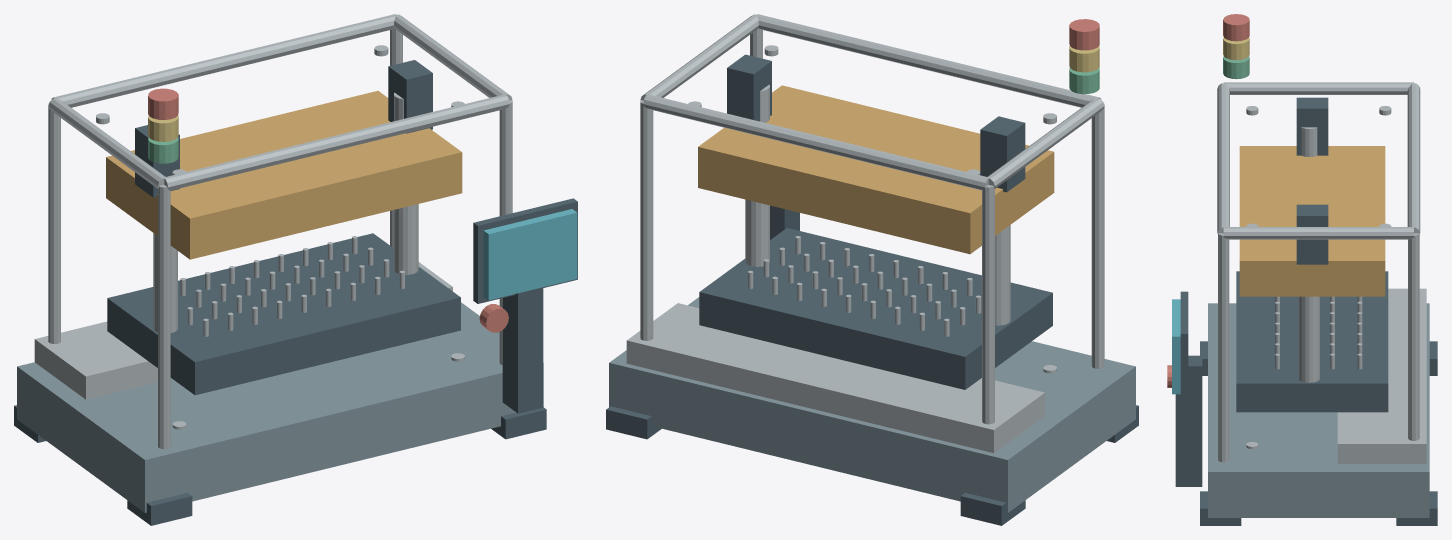
Rendered from backtester.glb.
3 views of the same model, side by side, from view 1: azimuth 30°, elevation 25°; view 2: azimuth 150°, elevation 25°; view 3: azimuth 270°, elevation 25° (orthographic). The views are drawn at different scales.
Visible parts, largest first — view 1: fabricated_base, moving_test_head, test_nest, operator_hmi_screen, control_plinth, toprail_1.5, toprail_-1.5, operator_hmi_pedestal, frame_-2.7_1.5, frame_-2.7_-1.5, linear_actuator_2, operator_hmi_bezel (+12 smaller); view 2: fabricated_base, moving_test_head, test_nest, control_plinth, toprail_-1.5, toprail_1.5, frame_-2.7_1.5, frame_2.7_-1.5, frame_-2.7_-1.5, linear_actuator_2, linear_actuator_-2, crossrail_-2.7 (+9 smaller); view 3: fabricated_base, moving_test_head, test_nest, control_plinth, operator_hmi_pedestal, frame_2.7_1.5, crossrail_2.7, frame_2.7_-1.5, crossrail_-2.7, toprail_-1.5, toprail_1.5, guide_column_1.9 (+10 smaller).
Part boxes in pixels (x1,y1,x2,y2): fabricated_base: [17, 302, 543, 512]; moving_test_head: [106, 91, 462, 259]; test_nest: [107, 233, 460, 395]; operator_hmi_screen: [483, 209, 577, 300]; control_plinth: [34, 262, 452, 399]; toprail_1.5: [163, 94, 509, 190]; toprail_-1.5: [51, 14, 396, 107]; operator_hmi_pedestal: [502, 287, 543, 413]; frame_-2.7_1.5: [158, 185, 170, 449]; frame_-2.7_-1.5: [48, 103, 60, 343]; linear_actuator_2: [388, 60, 432, 133]; operator_hmi_bezel: [473, 198, 577, 303]; fabricated_base: [609, 297, 1135, 512]; moving_test_head: [698, 85, 1054, 254]; test_nest: [699, 228, 1052, 389]; control_plinth: [626, 303, 1044, 452]; toprail_-1.5: [643, 94, 988, 190]; toprail_1.5: [756, 14, 1101, 107]; frame_-2.7_1.5: [1091, 103, 1104, 368]; frame_2.7_-1.5: [640, 100, 653, 340]; frame_-2.7_-1.5: [982, 185, 994, 424]; linear_actuator_2: [727, 54, 771, 121]; linear_actuator_-2: [980, 116, 1025, 192]; crossrail_-2.7: [987, 98, 1104, 188]; fabricated_base: [1208, 303, 1429, 517]; moving_test_head: [1239, 146, 1385, 296]; test_nest: [1236, 271, 1388, 412]; control_plinth: [1337, 288, 1426, 463]; operator_hmi_pedestal: [1175, 355, 1202, 486]; frame_2.7_1.5: [1218, 233, 1229, 462]; crossrail_2.7: [1223, 227, 1413, 239]; frame_2.7_-1.5: [1408, 233, 1419, 440]; crossrail_-2.7: [1223, 82, 1413, 94]; toprail_-1.5: [1407, 83, 1420, 233]; toprail_1.5: [1217, 83, 1229, 233]; guide_column_1.9: [1298, 296, 1319, 382].
Size of the model in its own units: 6.59 by 6.15 by 4.27.
